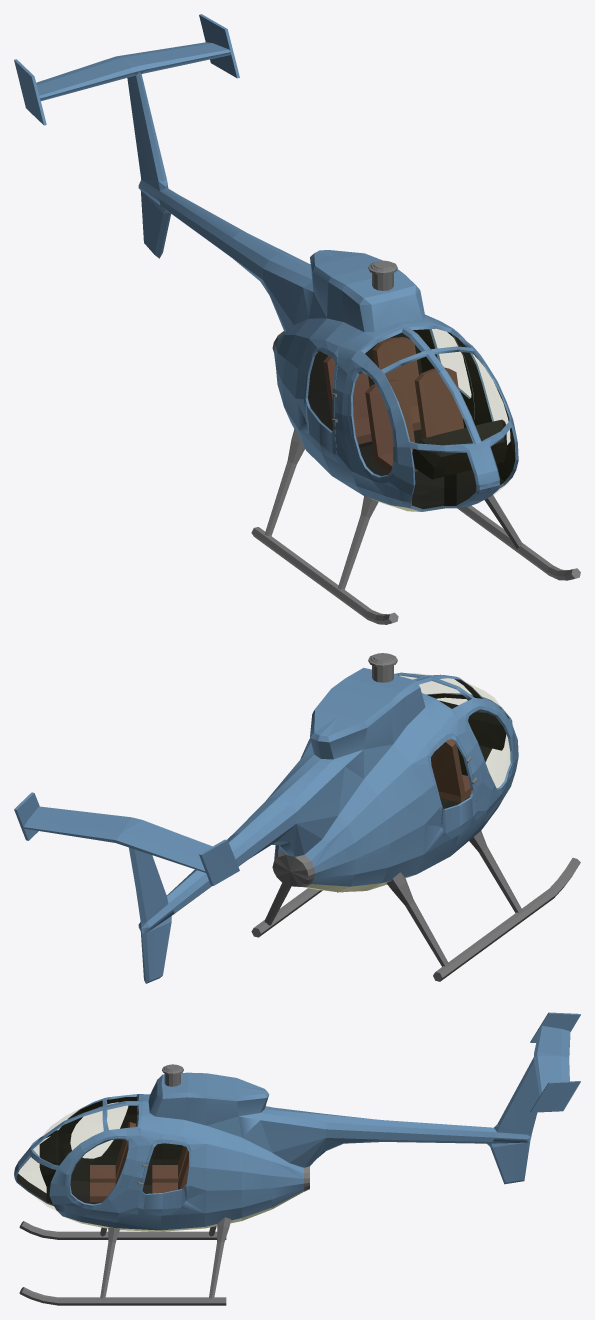
File: aircraft_11_damage.glb
3 views of the same model, one above another, from view 1: azimuth 30°, elevation 25°; view 2: azimuth 150°, elevation 25°; view 3: azimuth 270°, elevation 25° (orthographic). The views are drawn at different scales.
Visible parts, largest first — view 1: Fuselage, TailBreakaway, Skids, seat, instrument panel, seat back row, Door Right; view 2: Fuselage, TailBreakaway, Skids, seat, Door Right, instrument panel, RotorShaft; view 3: Fuselage, TailBreakaway, Skids, Door Left, seat, seat back row, instrument panel, Door Right, RotorShaft.
Part boxes in pixels (left/top/right/bottom): Fuselage: left=275, top=250, right=518, bottom=511; TailBreakaway: left=14, top=14, right=310, bottom=358; Skids: left=251, top=428, right=580, bottom=624; seat: left=365, top=367, right=463, bottom=472; instrument panel: left=412, top=419, right=506, bottom=505; seat back row: left=323, top=337, right=421, bottom=444; Door Right: left=304, top=347, right=337, bottom=453; Fuselage: left=287, top=667, right=518, bottom=892; TailBreakaway: left=14, top=772, right=336, bottom=983; Skids: left=251, top=831, right=580, bottom=981; seat: left=431, top=739, right=471, bottom=802; Door Right: left=427, top=733, right=477, bottom=833; instrument panel: left=439, top=700, right=506, bottom=775; RotorShaft: left=368, top=653, right=397, bottom=682; Fuselage: left=14, top=1072, right=286, bottom=1231; TailBreakaway: left=287, top=1012, right=580, bottom=1200; Skids: left=19, top=1217, right=231, bottom=1305; Door Left: left=137, top=1139, right=191, bottom=1209; seat: left=90, top=1122, right=136, bottom=1202; seat back row: left=152, top=1146, right=188, bottom=1193; instrument panel: left=39, top=1132, right=64, bottom=1204; Door Right: left=150, top=1143, right=183, bottom=1159; RotorShaft: left=162, top=1064, right=183, bottom=1086.
Bounding box in the file's own units: 2.63 × 3.88 × 8.9.
